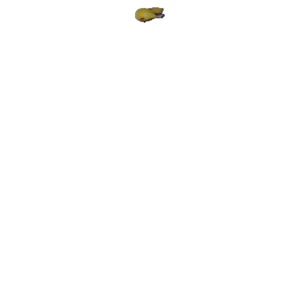banana: (131, 4, 165, 27)
